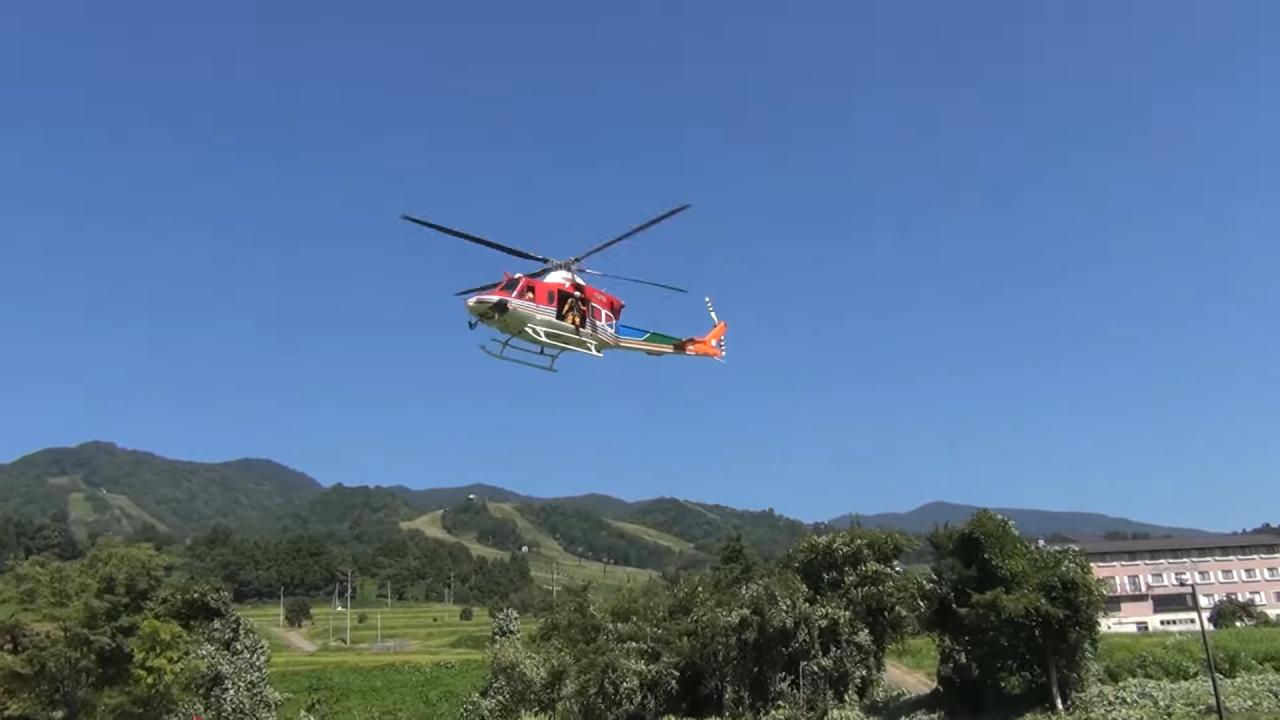Helicopter: (392, 192, 744, 381)
